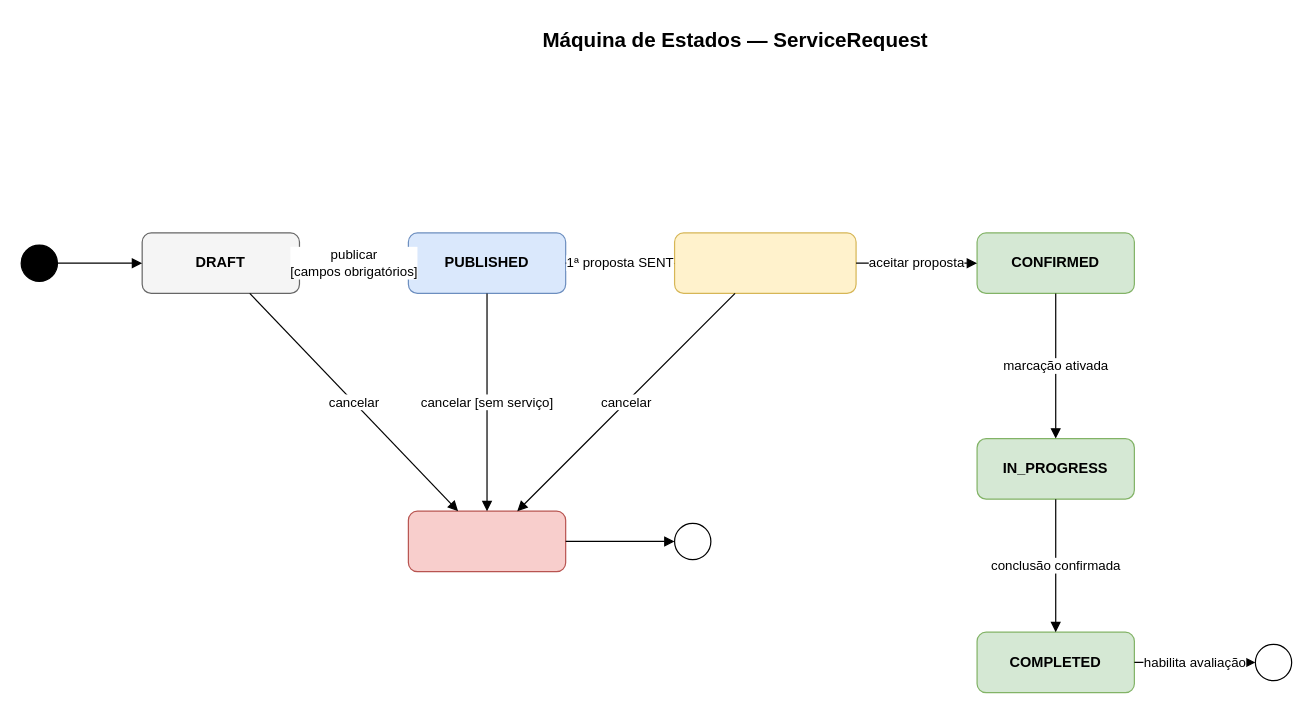
The diagram is 1313 pixels wide and 714 high, and some of its shapes have lost their labels. Each missing label, with the centre of its shape:
CANCELLED: (486,541)
IN_NEGOTIATION: (764,262)
